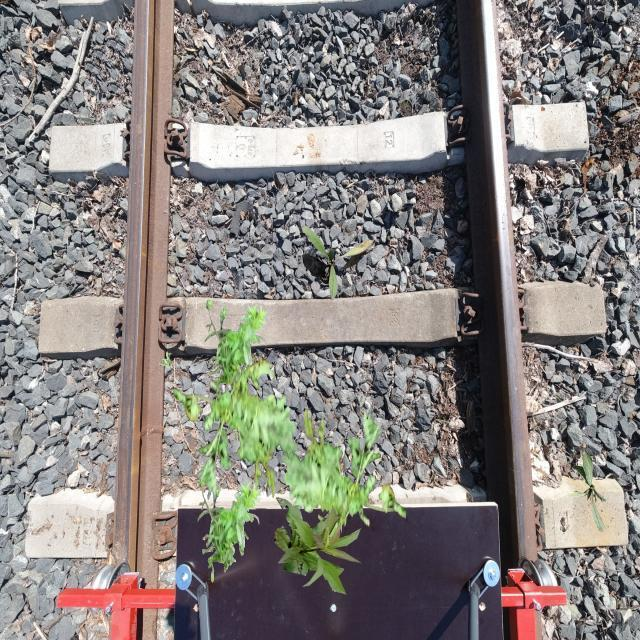Plant: (282, 406, 407, 553), (174, 354, 299, 501), (274, 497, 362, 594), (205, 297, 270, 404), (198, 475, 262, 582), (302, 225, 374, 300), (567, 450, 607, 532), (159, 351, 173, 366)
